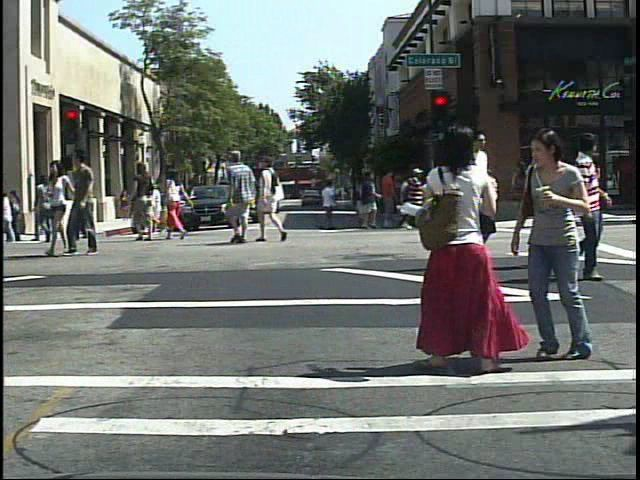person: (404, 123, 506, 378), (516, 121, 604, 367), (445, 129, 509, 276), (520, 132, 581, 278), (568, 128, 619, 283), (452, 141, 499, 247), (67, 148, 105, 260), (220, 149, 259, 247), (42, 159, 79, 260), (258, 152, 287, 247), (162, 164, 194, 245), (129, 163, 158, 242), (480, 164, 508, 233), (71, 169, 96, 246), (402, 165, 428, 219), (35, 175, 54, 245)
